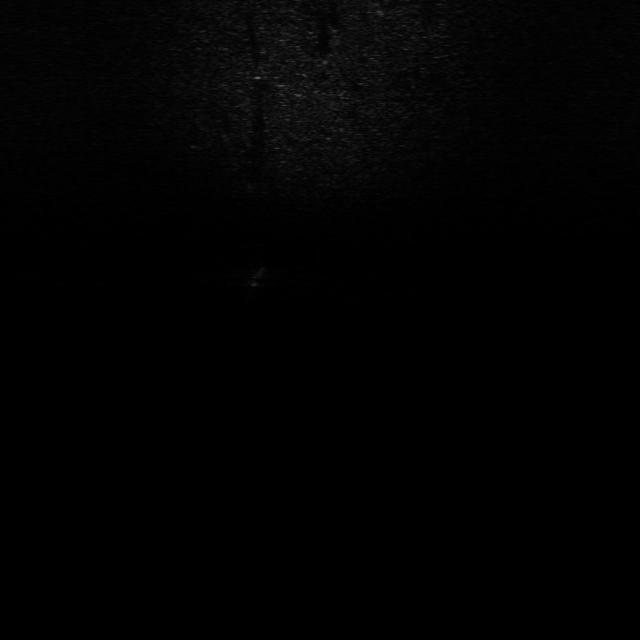human body: (246, 254, 272, 304)
